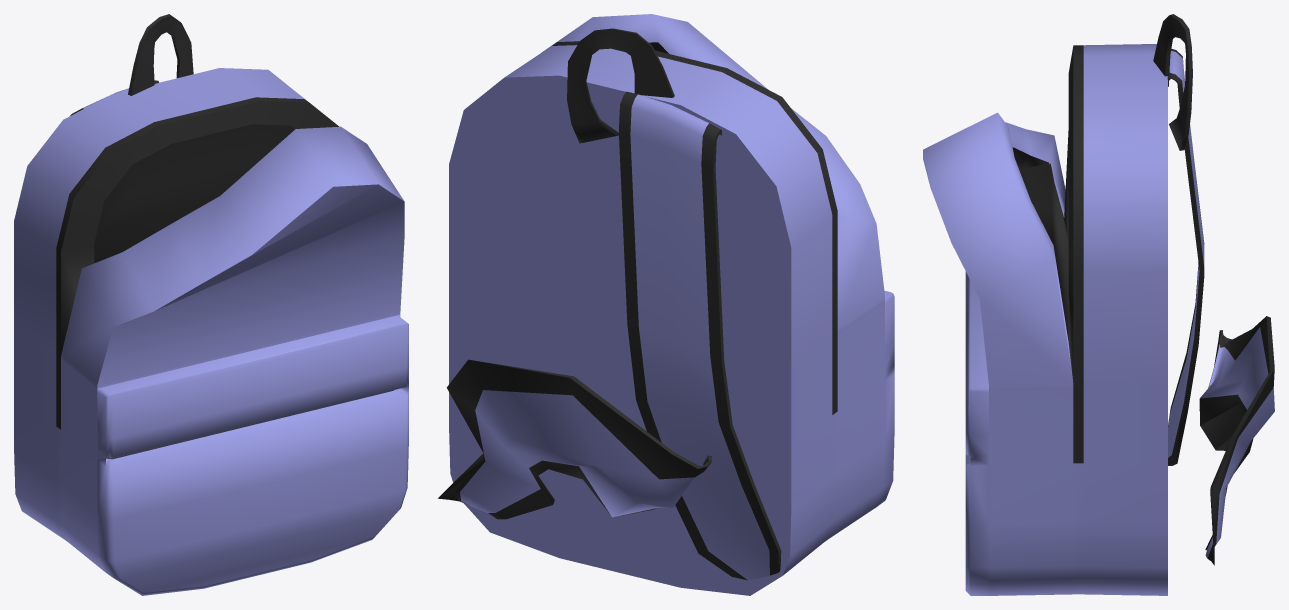
File: Mochila_Ruim.fbx
The picture shows the model from 3 angles, left to right: view 1: azimuth 30°, elevation 25°; view 2: azimuth 150°, elevation 25°; view 3: azimuth 270°, elevation 25°; orthographic projection. The views are drawn at different scales.
Visible parts, largest first — view 1: Mochila_Ruim; view 2: Mochila_Ruim; view 3: Mochila_Ruim.
Part boxes in pixels (x1=…): Mochila_Ruim: x1=14, y1=14, x2=408, y2=595; Mochila_Ruim: x1=438, y1=14, x2=894, y2=595; Mochila_Ruim: x1=923, y1=14, x2=1274, y2=595.
Bounding box in the file's own units: 29.91 × 45.87 × 27.9.
